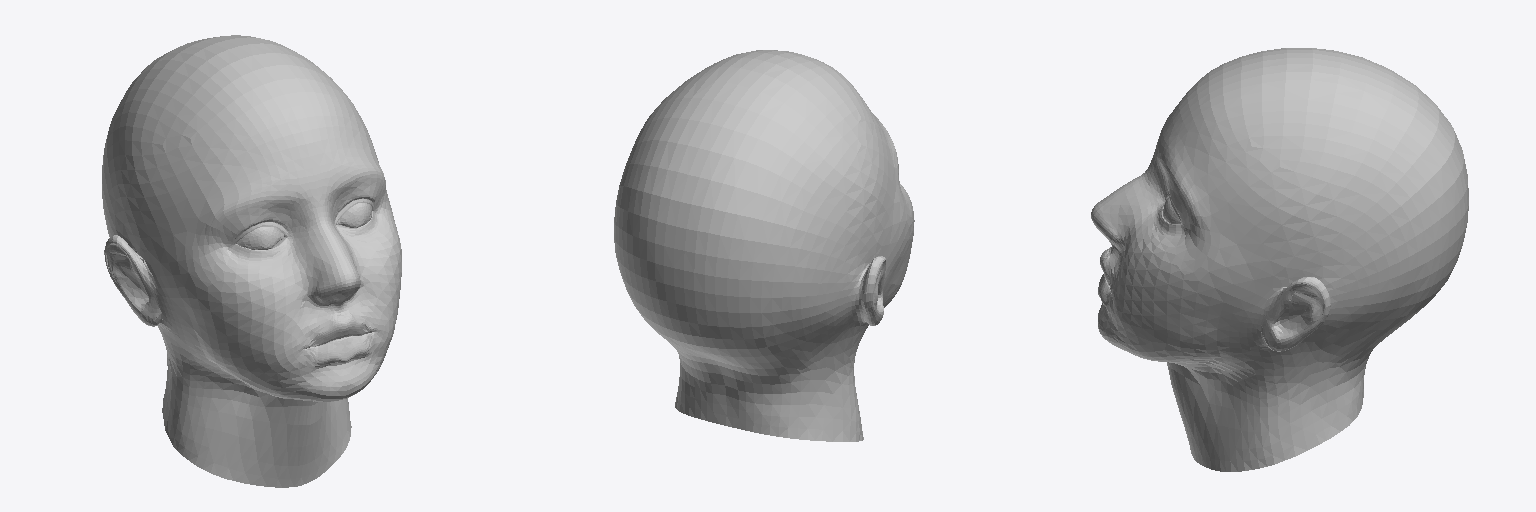
3 renders of one model, left to right at view 1: azimuth 30°, elevation 25°; view 2: azimuth 150°, elevation 25°; view 3: azimuth 270°, elevation 25°, orthographic.
Parts seen in each view (by area): view 1: FaceGen; view 2: FaceGen; view 3: FaceGen.
Boxes of the visible parts, <box> form: FaceGen: <box>102,35,401,487</box>; FaceGen: <box>614,50,914,441</box>; FaceGen: <box>1091,48,1468,471</box>.
Bounding box in the file's own units: 194 × 283 × 246.